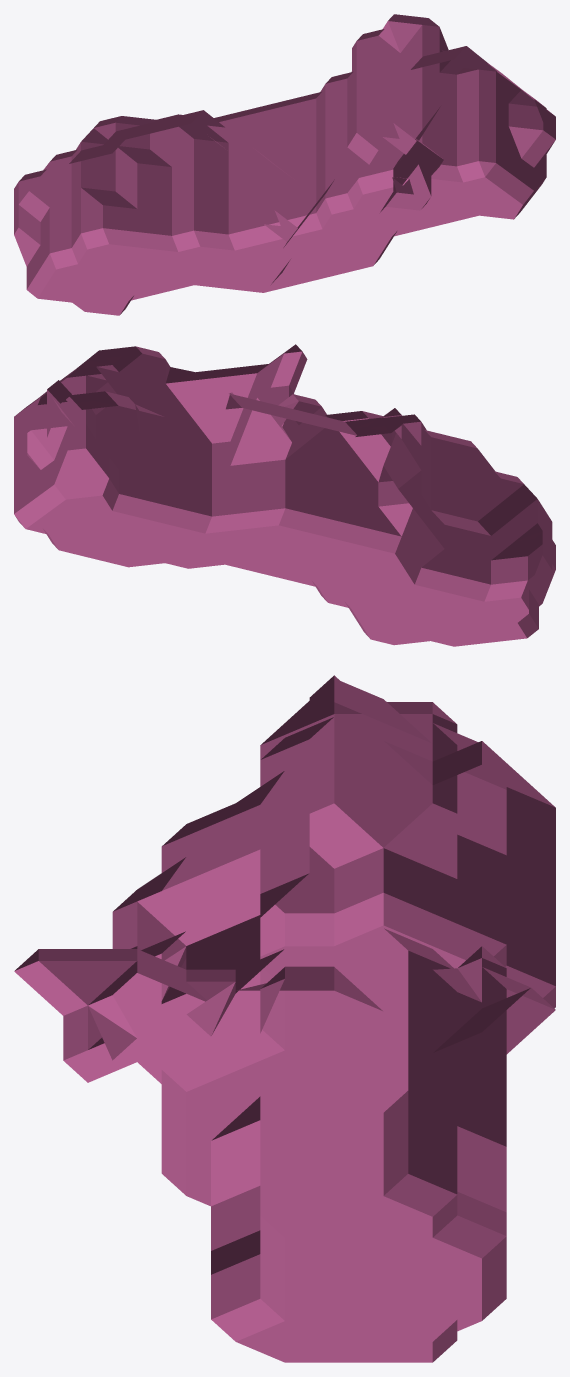
Rendered from region_0179_IVm__trochlear_nucleus_.glb.
The picture shows the model from 3 angles, top to bottom: view 1: azimuth 30°, elevation 25°; view 2: azimuth 150°, elevation 25°; view 3: azimuth 270°, elevation 25°; orthographic projection. The views are drawn at different scales.
Parts seen in each view (by area): view 1: world; view 2: world; view 3: world.
Boxes of the visible parts, <box> form: world: <box>14,14,555,315</box>; world: <box>14,344,555,646</box>; world: <box>14,675,555,1362</box>.
Bounding box in the file's own units: 0.184 × 0.056 × 0.088.
